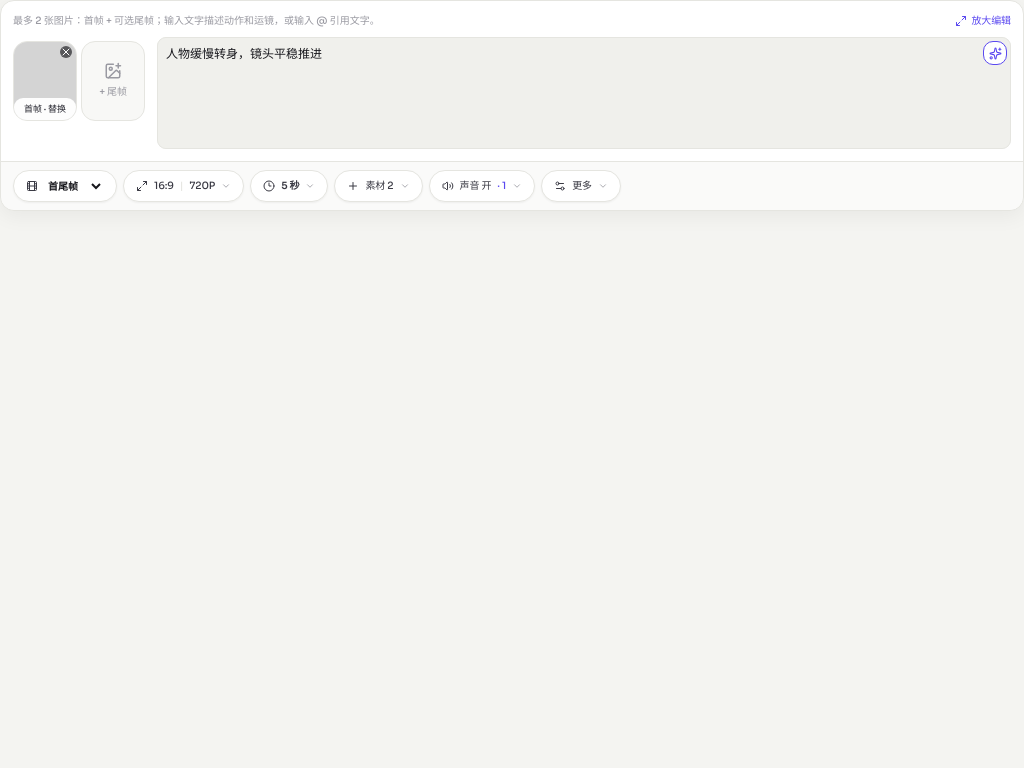
Test: Seedance 2.0 Jimeng-style controls › displays canonical default resolution for 720P without changing saved parameters
Click the button named "画面规格" at [184, 186], box x1=123 y1=170 x2=244 y2=202
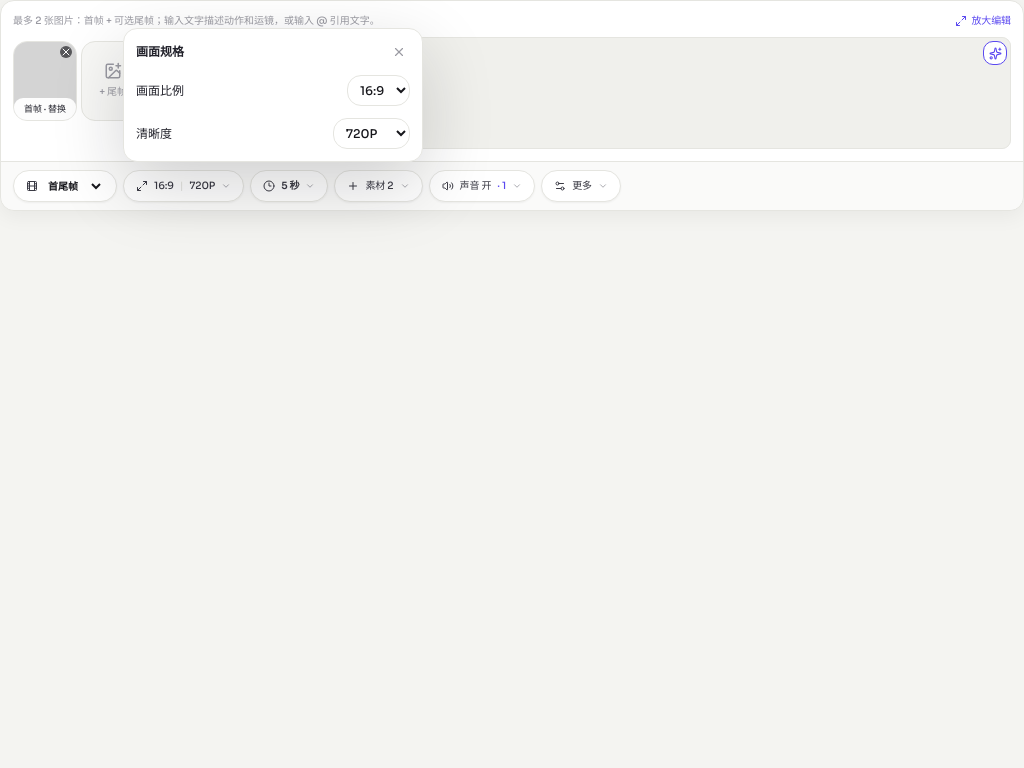
Check: the dropdown named "选择清晰度" shows "720P", box x1=333 y1=118 x2=410 y2=149
